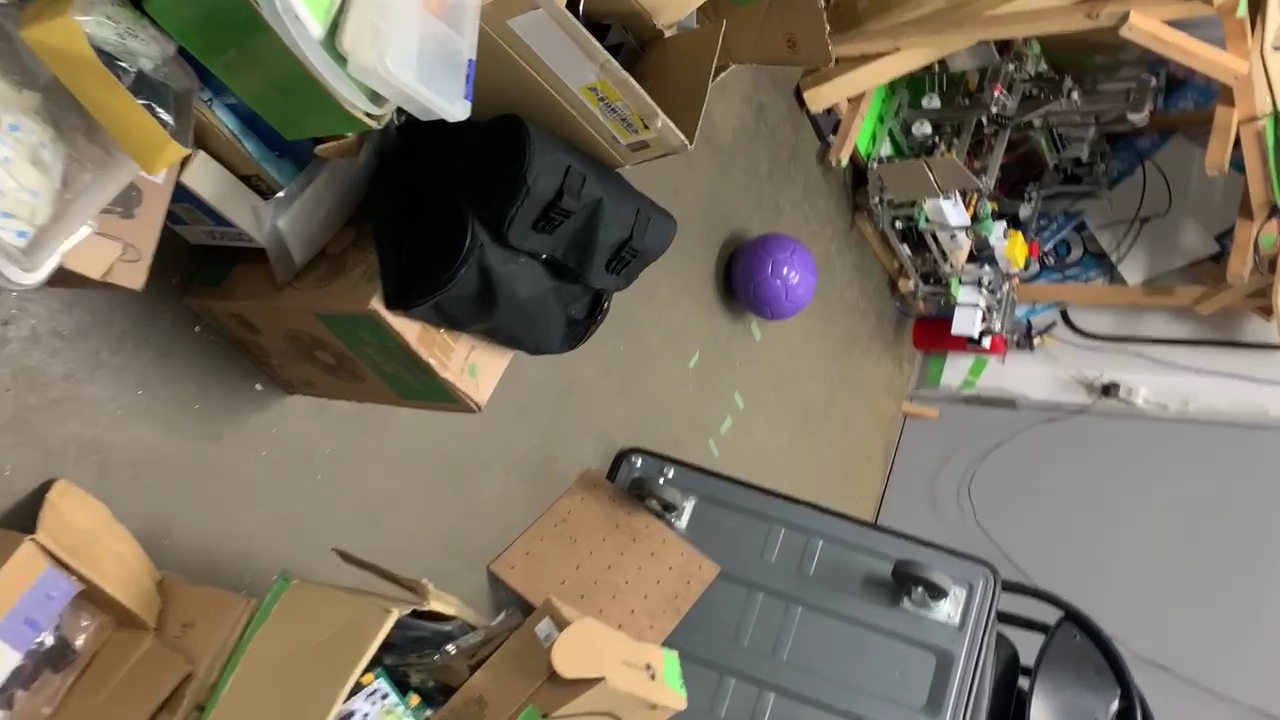purple: (730, 232, 817, 321)
